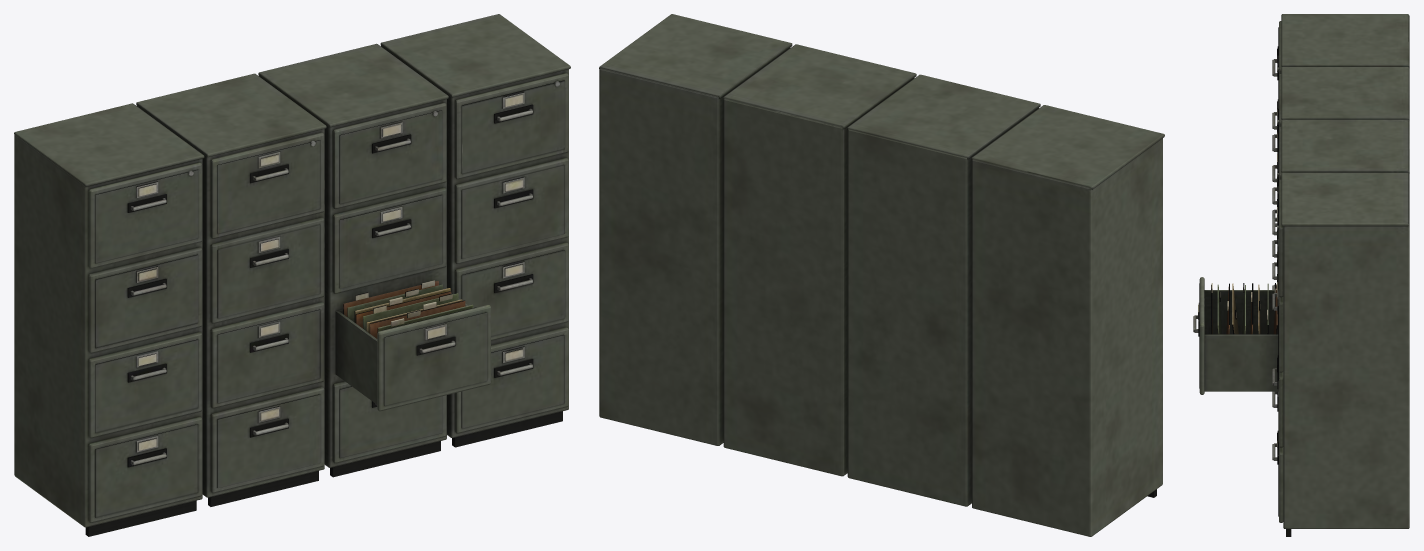
Rendered from office_cabinets.glb.
3 views of the same model, side by side, from view 1: azimuth 30°, elevation 25°; view 2: azimuth 150°, elevation 25°; view 3: azimuth 270°, elevation 25° (orthographic). The views are drawn at different scales.
Visible parts, largest first — view 1: office_cabinets; view 2: office_cabinets; view 3: office_cabinets.
Boxes of the visible parts, <box> form: office_cabinets: <box>14,14,570,536</box>; office_cabinets: <box>599,14,1164,536</box>; office_cabinets: <box>1193,14,1409,536</box>.
Size of the model in its own units: 1.89 by 1.32 by 0.822.
Materials: 1 (1 with a texture image).
